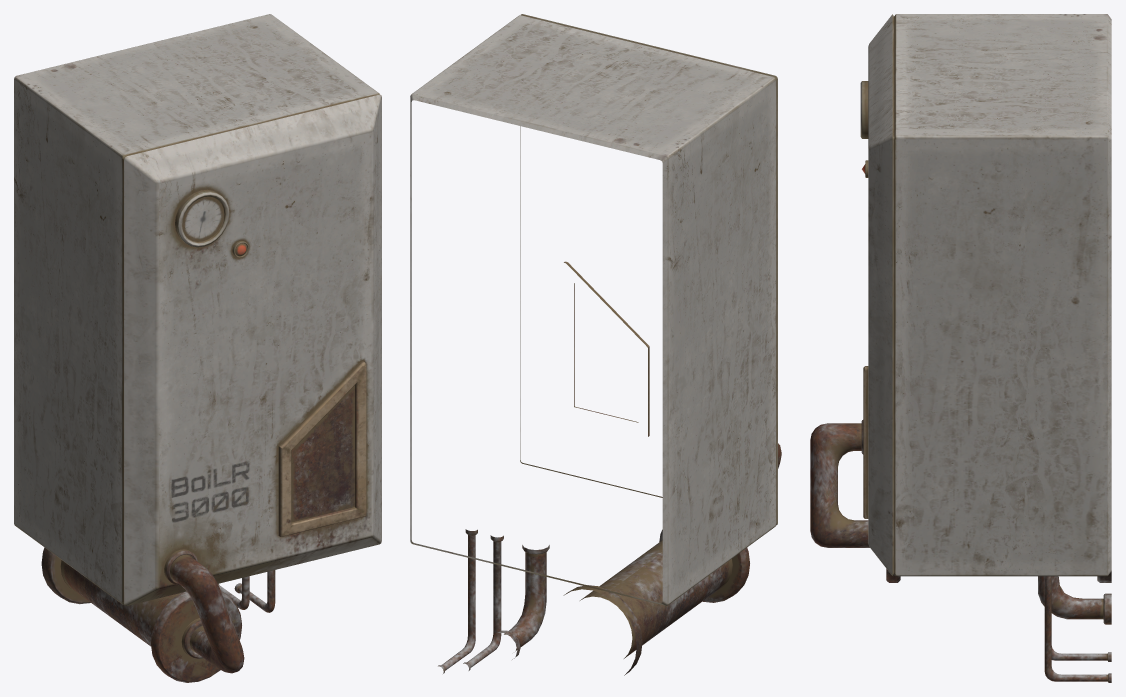
File: SM_boiler.gltf
3 views of the same model, side by side, from view 1: azimuth 30°, elevation 25°; view 2: azimuth 150°, elevation 25°; view 3: azimuth 270°, elevation 25° (orthographic). The views are drawn at different scales.
Visible parts, largest first — view 1: SM_boiler; view 2: SM_boiler; view 3: SM_boiler.
Part boxes in pixels (bbox=[...]): SM_boiler: bbox=[14, 14, 381, 682]; SM_boiler: bbox=[410, 14, 781, 675]; SM_boiler: bbox=[810, 14, 1111, 682].
Size of the model in its own units: 0.495 by 1.05 by 0.5107.
Materials: 1 (1 with a texture image).
